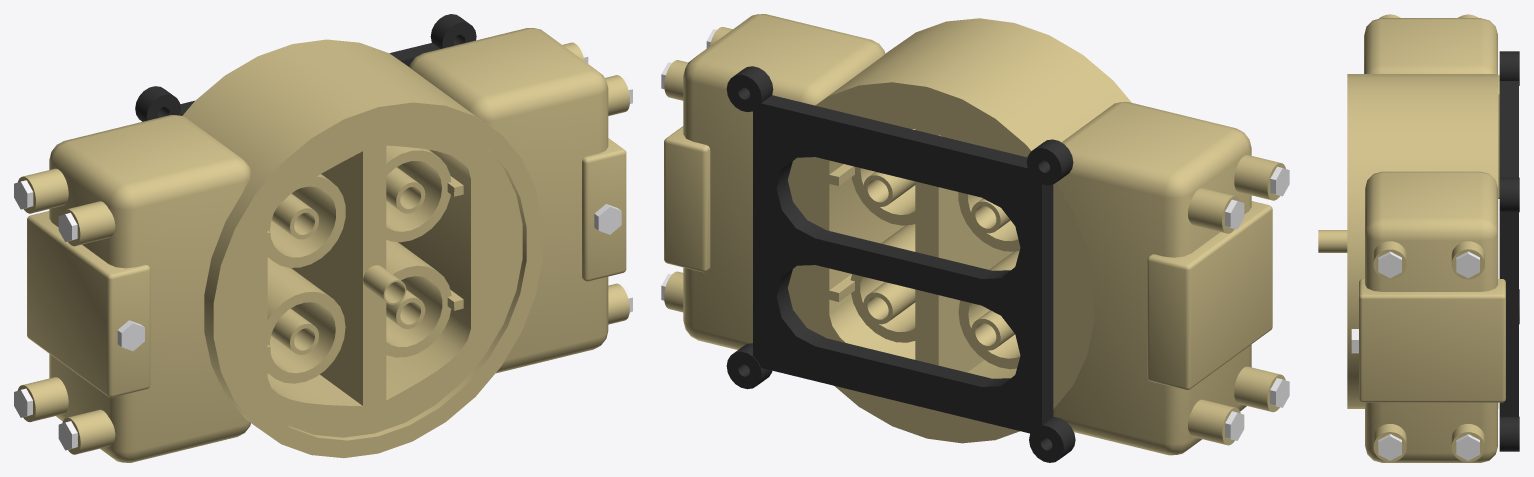
File: carb-4bbl.glb
The picture shows the model from 3 angles, left to right: view 1: azimuth 30°, elevation 25°; view 2: azimuth 150°, elevation 25°; view 3: azimuth 270°, elevation 25°; orthographic projection. The views are drawn at different scales.
Parts seen in each view (by area): view 1: carburetor; view 2: carburetor; view 3: carburetor.
Part boxes in pixels (left/top/right/bottom): carburetor: left=14, top=14, right=632, bottom=462; carburetor: left=661, top=14, right=1289, bottom=462; carburetor: left=1318, top=14, right=1519, bottom=462.
Size of the model in its own units: 1.42 by 0.8384 by 0.5045.
